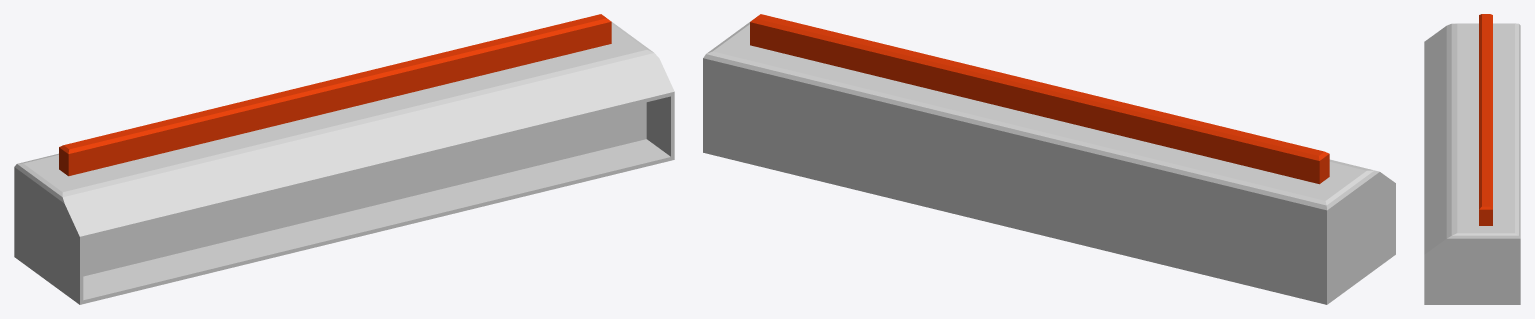
The model's file is Port1.fbx.
3 renders of one model, left to right at view 1: azimuth 30°, elevation 25°; view 2: azimuth 150°, elevation 25°; view 3: azimuth 270°, elevation 25°, orthographic. The views are drawn at different scales.
Visible parts, largest first — view 1: Cube.024; view 2: Cube.024; view 3: Cube.024.
Boxes of the visible parts, x1,y1,x2,y2 form: Cube.024: (14,14,674,304); Cube.024: (703,14,1395,304); Cube.024: (1424,14,1520,304).
Bounding box in the file's own units: 2620 × 505 × 500.
